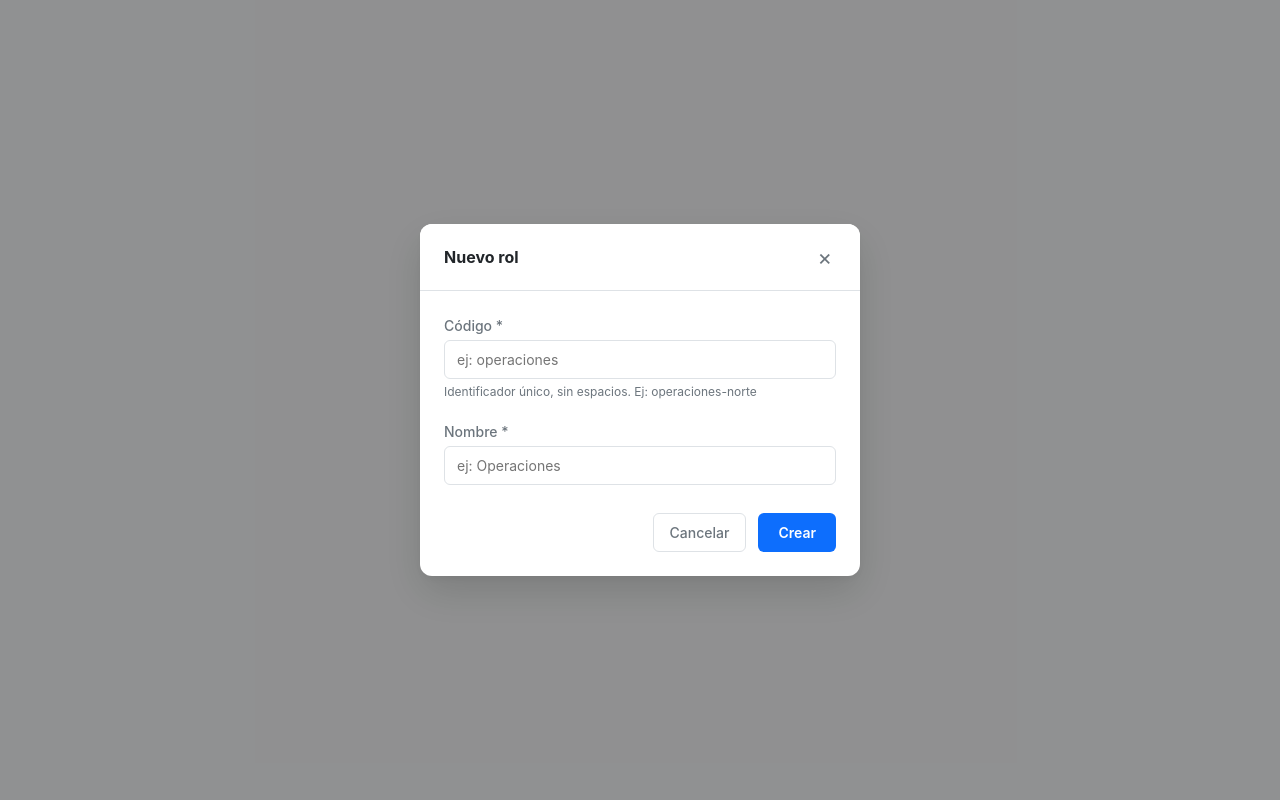
it: NewRoleModal › shows validation error when code is empty
Click the button "Crear" at [797, 532], box [758,513,836,552]
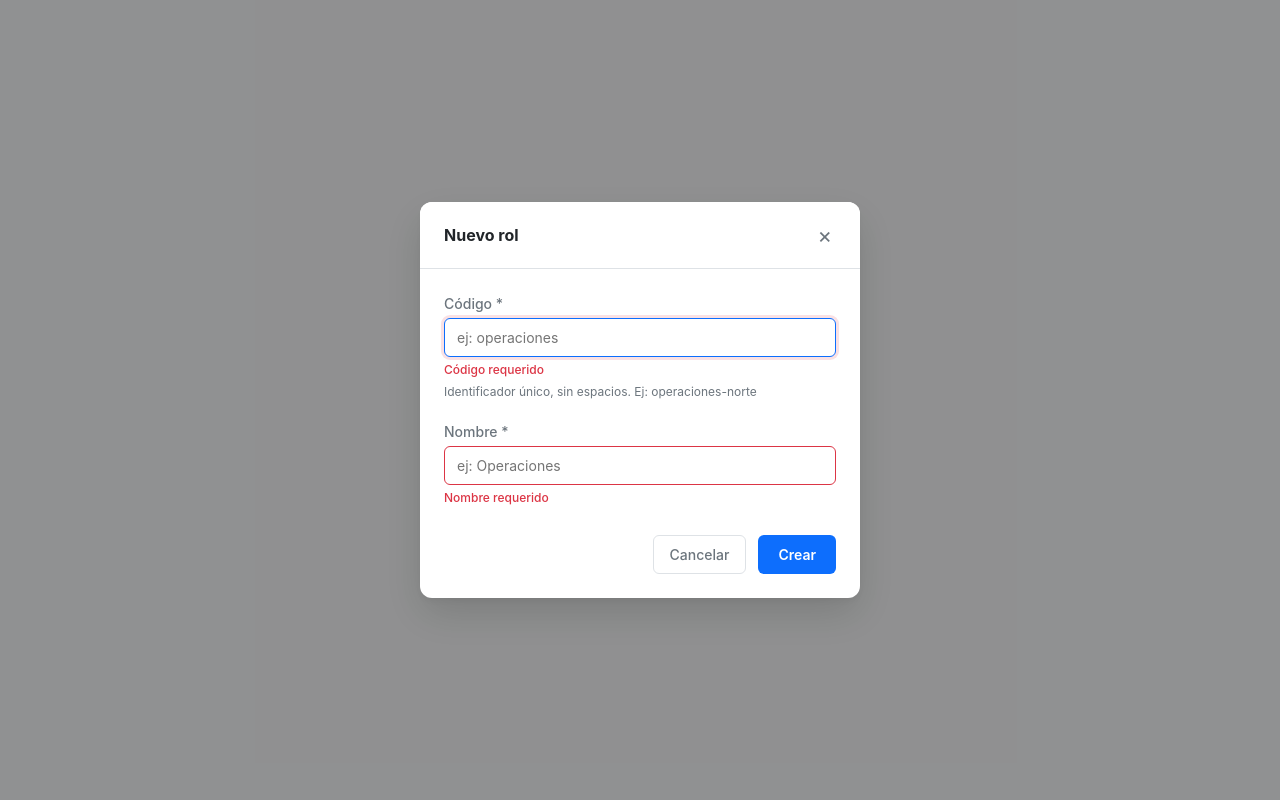
expect the text "Código requerido" is shown: met, box [444,362,544,377]
